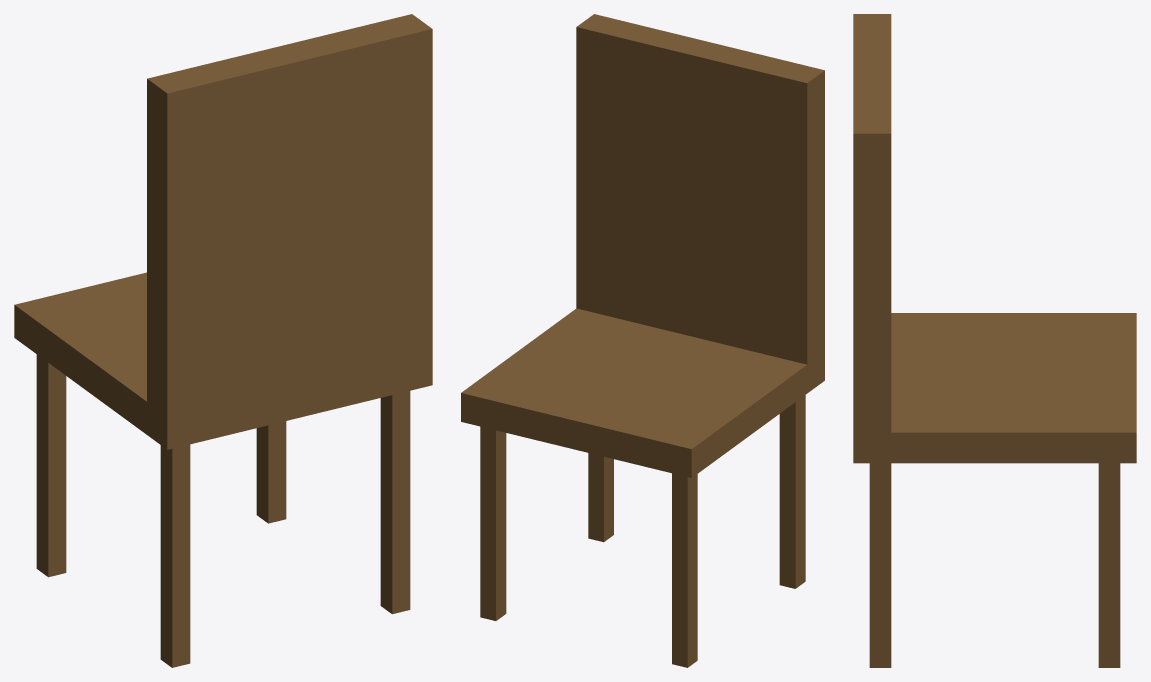
The model's file is Chair.fbx.
3 views of the same model, side by side, from view 1: azimuth 30°, elevation 25°; view 2: azimuth 150°, elevation 25°; view 3: azimuth 270°, elevation 25° (orthographic). The views are drawn at different scales.
Parts seen in each view (by area): view 1: Chair1; view 2: Chair1; view 3: Chair1.
Boxes of the visible parts, bbox=[...] form: Chair1: bbox=[14, 14, 432, 667]; Chair1: bbox=[461, 14, 824, 667]; Chair1: bbox=[853, 14, 1136, 667].
Size of the model in its own units: 89.31 by 188 by 89.31.
